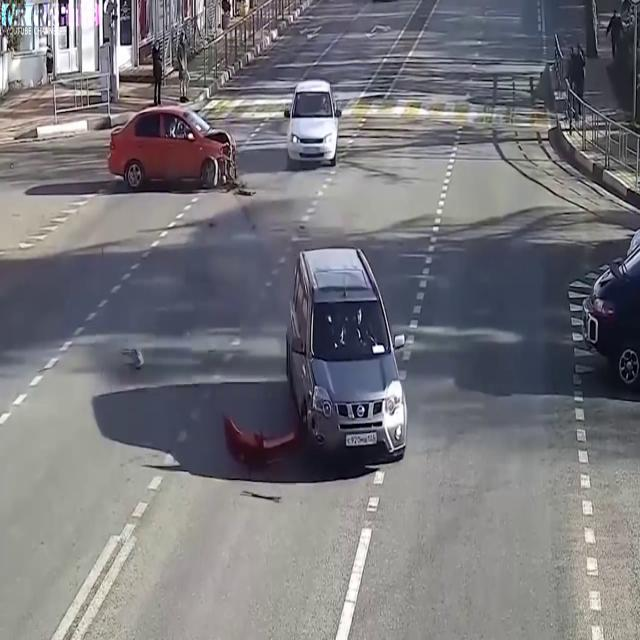Accident: (196, 230, 431, 484), (80, 70, 245, 208)
